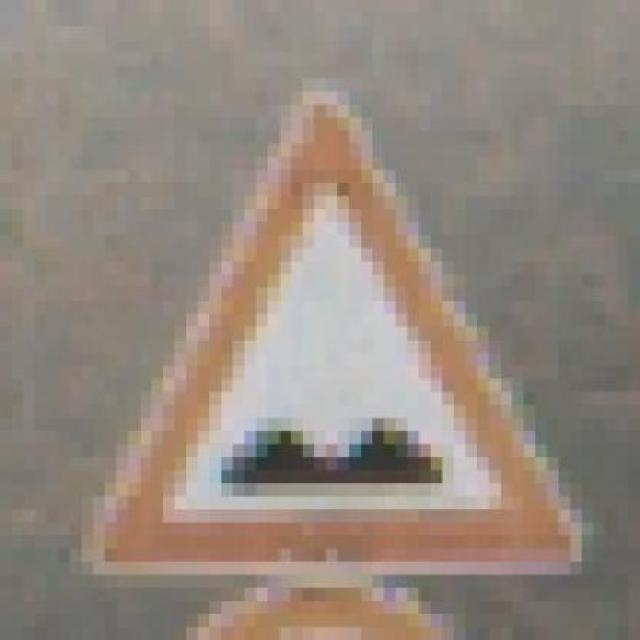Uneven Road: (81, 91, 594, 574)
